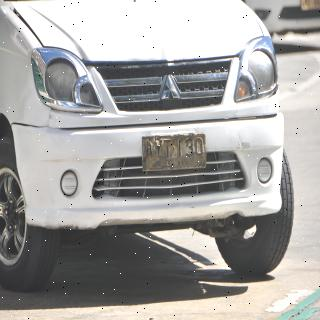license: (144, 134, 207, 172)
